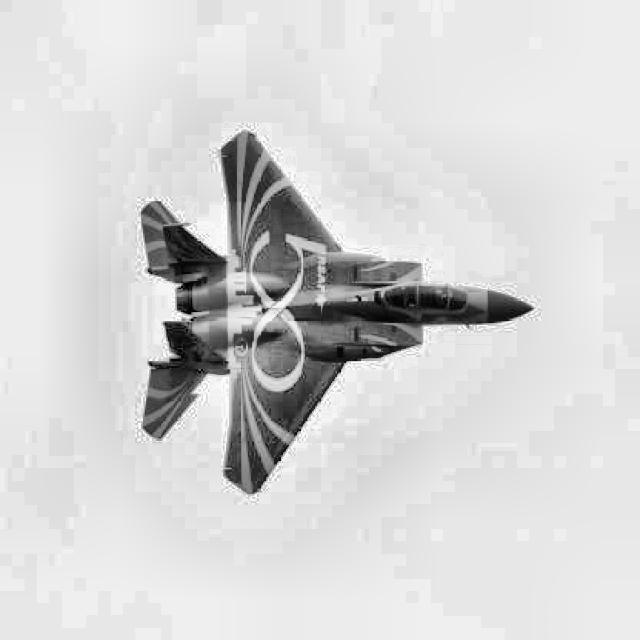F15: (138, 131, 534, 495)
